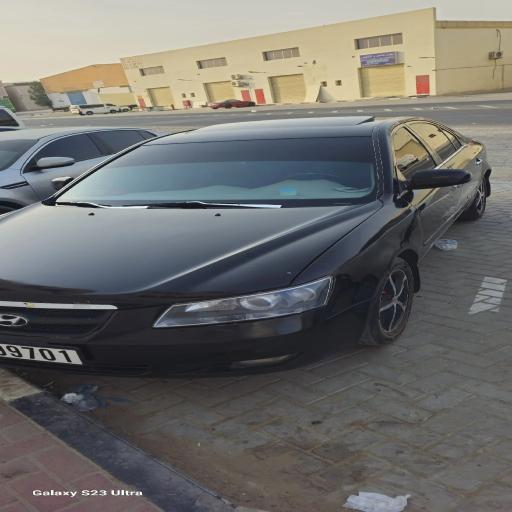license-plates: (0, 344, 83, 365)
